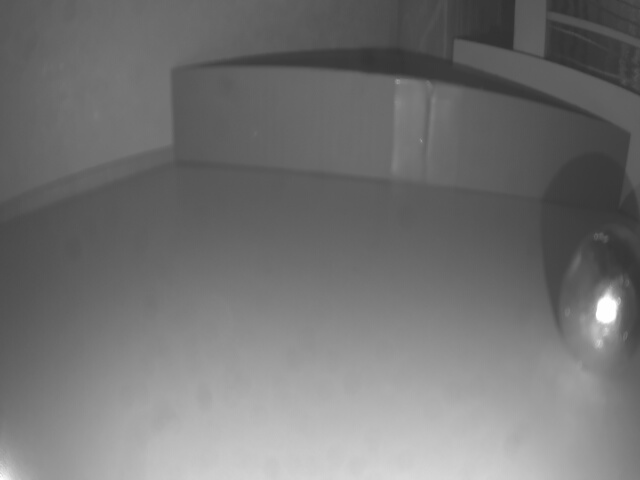Live: (557, 227, 640, 372)
Point: (174, 62, 630, 209)
